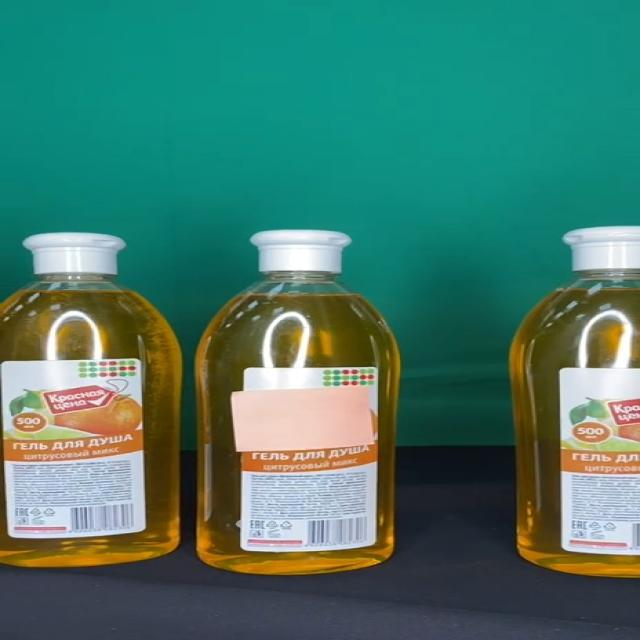Bottle: (195, 229, 400, 576), (0, 232, 183, 566)
Cap: (249, 230, 352, 273), (24, 232, 127, 274)
